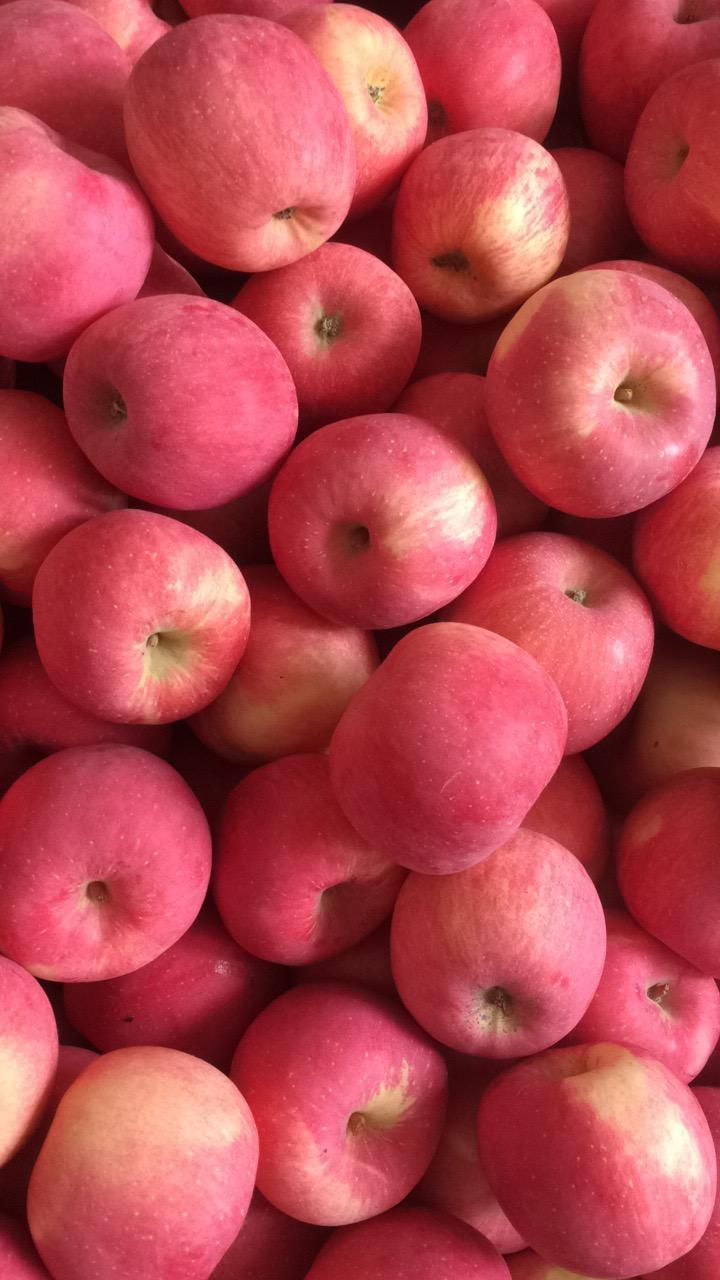apple: (117, 12, 361, 277), (329, 619, 573, 879), (484, 263, 717, 526), (475, 1042, 718, 1274), (230, 979, 449, 1229), (25, 1045, 260, 1274), (60, 295, 301, 515), (1, 742, 213, 989), (265, 419, 500, 634), (384, 832, 606, 1059), (33, 498, 256, 717), (456, 533, 656, 767), (213, 742, 401, 978), (1, 108, 156, 378), (391, 126, 574, 328), (232, 243, 421, 429), (275, 1, 425, 210), (63, 908, 268, 1058), (1, 383, 120, 604), (578, 914, 720, 1087), (390, 5, 562, 145), (618, 61, 720, 281), (613, 770, 720, 968), (1, 3, 136, 159), (579, 1, 720, 142)
